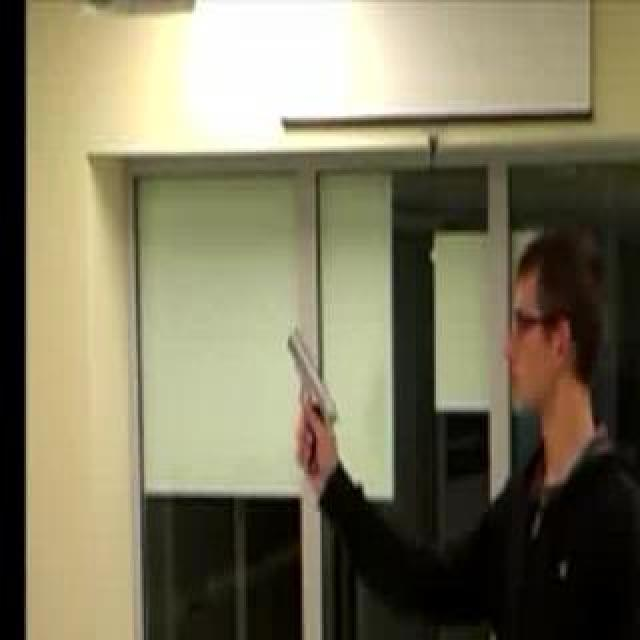Guns: (269, 322, 356, 474)
